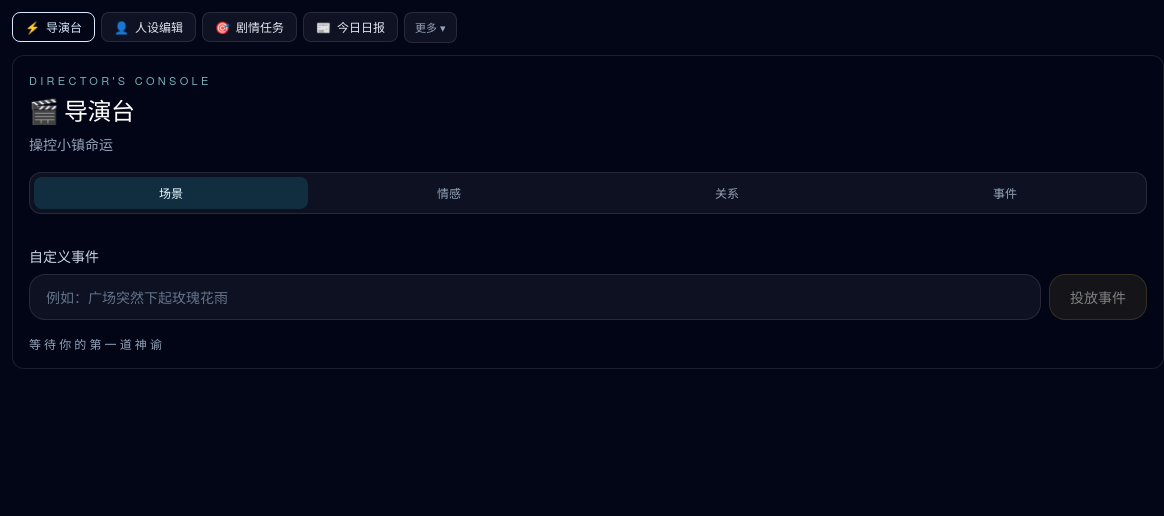
Test: Toolbar › shows secondary tools when "更多" is clicked
The image size is (1164, 516).
Step 1. Click the button with test id "more-toggle" → (430, 27), box [404,12,456,42]
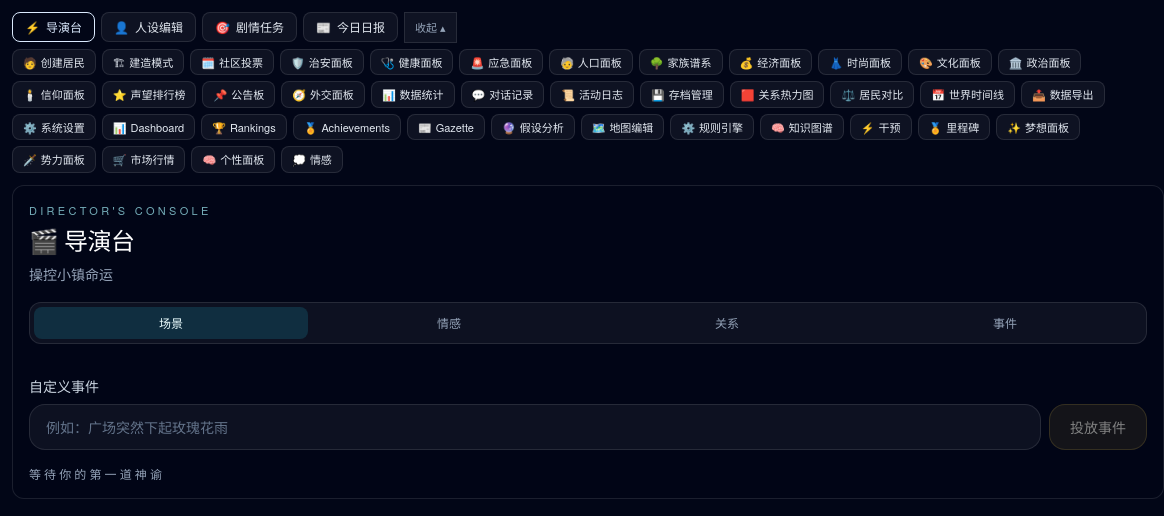
Expected: the element with test id "secondary-row" is shown, [12,48,1163,172]
Expected: the button "🏗建造模式" is shown, [102,48,184,75]
Expected: the button "🛡️治安面板" is shown, [280,48,364,75]
